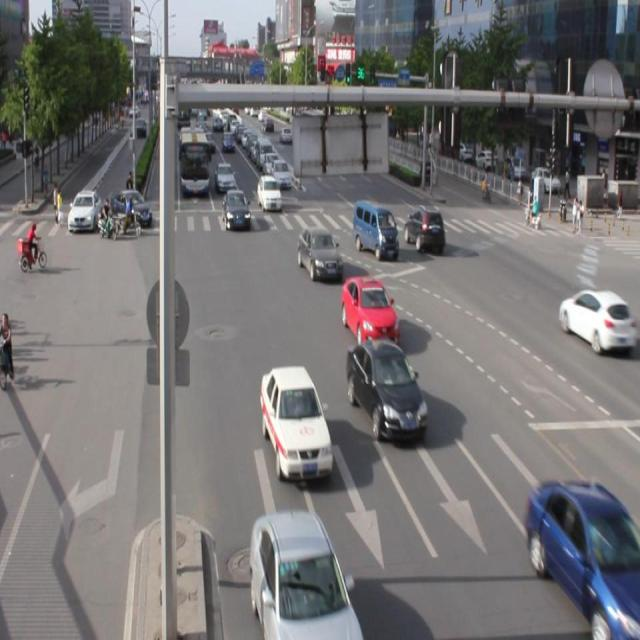car: (524, 476, 640, 639), (248, 509, 360, 640), (345, 337, 428, 439), (260, 364, 332, 478), (556, 287, 640, 351), (341, 274, 399, 348), (298, 225, 343, 283), (403, 204, 445, 251)
truck: (351, 198, 398, 256)
